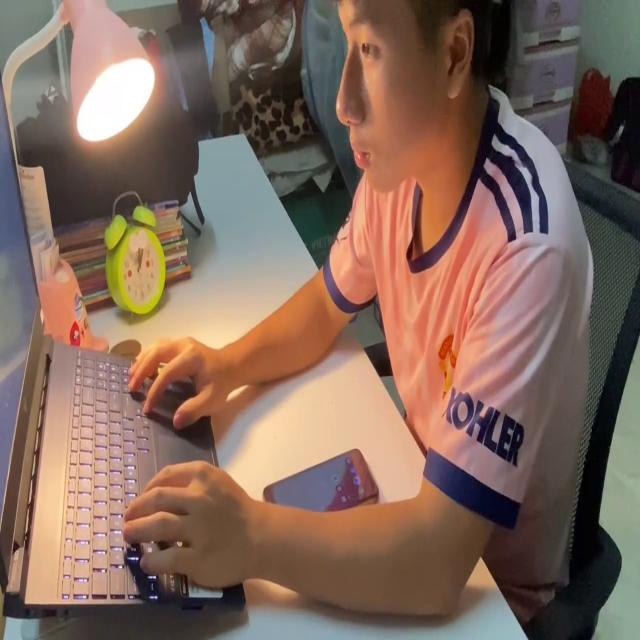laptop: (0, 61, 248, 618)
phone: (261, 447, 381, 511)
student: (120, 0, 595, 613)
